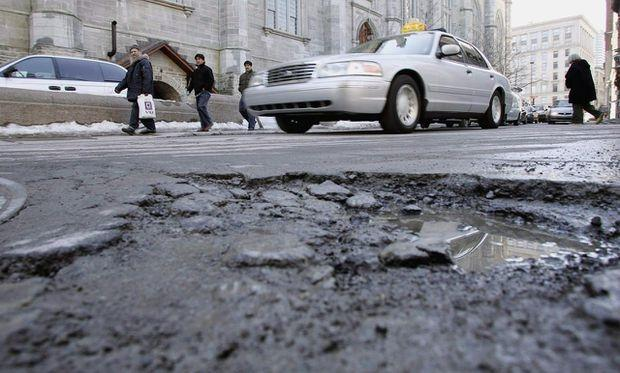Pothole: (24, 146, 619, 372)
